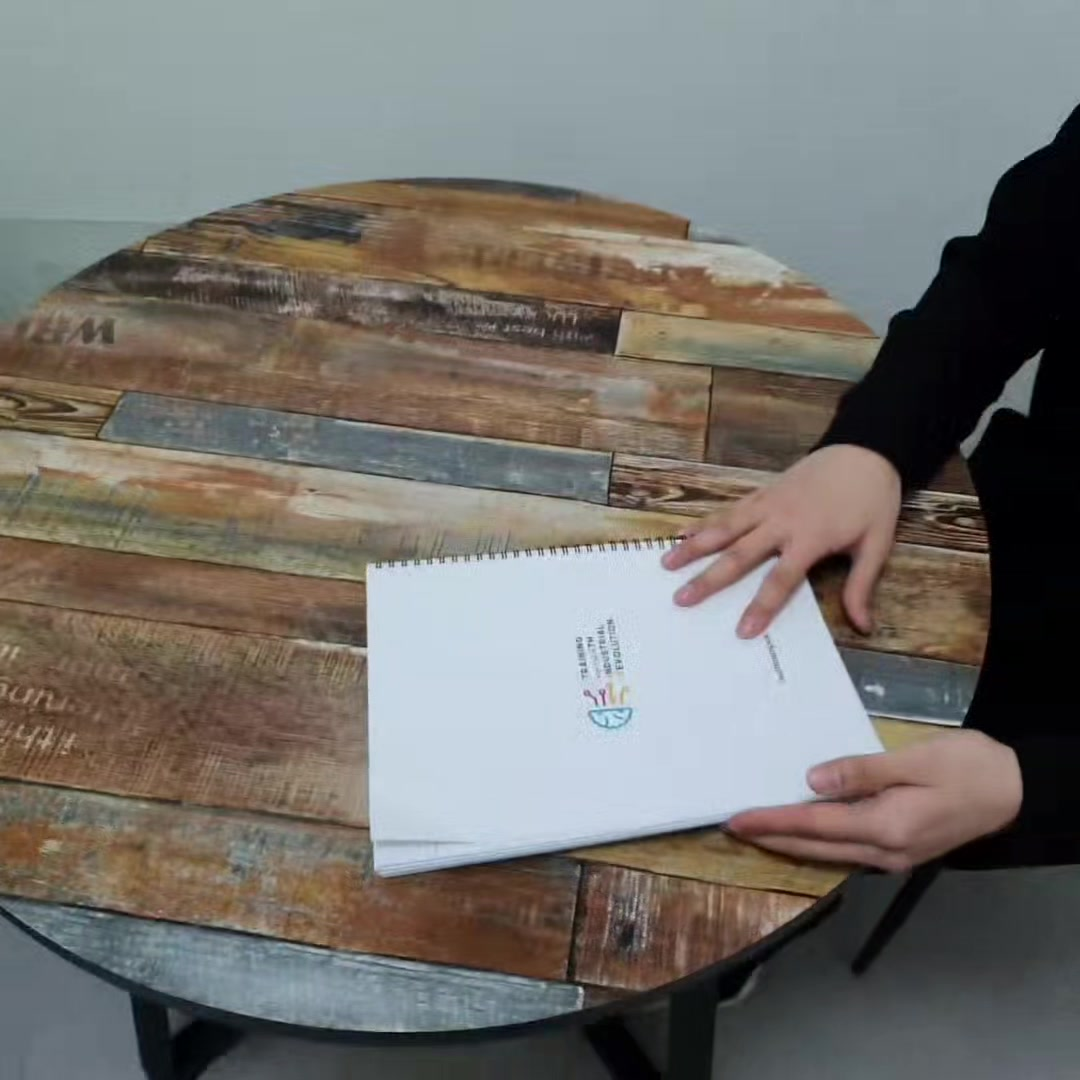book: (351, 470, 908, 881)
